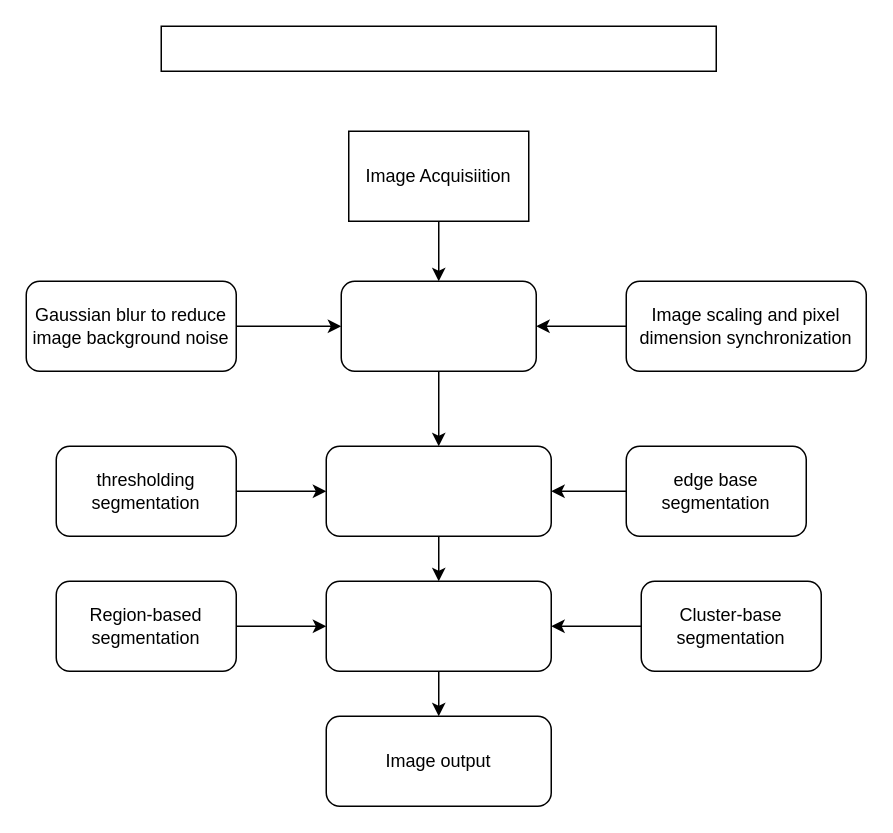
The diagram is 893 pixels wide and 833 high, and some of its shapes have lost their labels. The shapes that lost their labels are listed below. From the top down, each one's box as (x1, y1, x2, y2) in pixels, then its label:
(160, 25, 716, 71): Traditonal Image Segmentation Flowchart
(340, 280, 536, 371): Image enhancement
(325, 445, 551, 536): Image background and foreground classification
(325, 580, 551, 671): Object of interest classification
